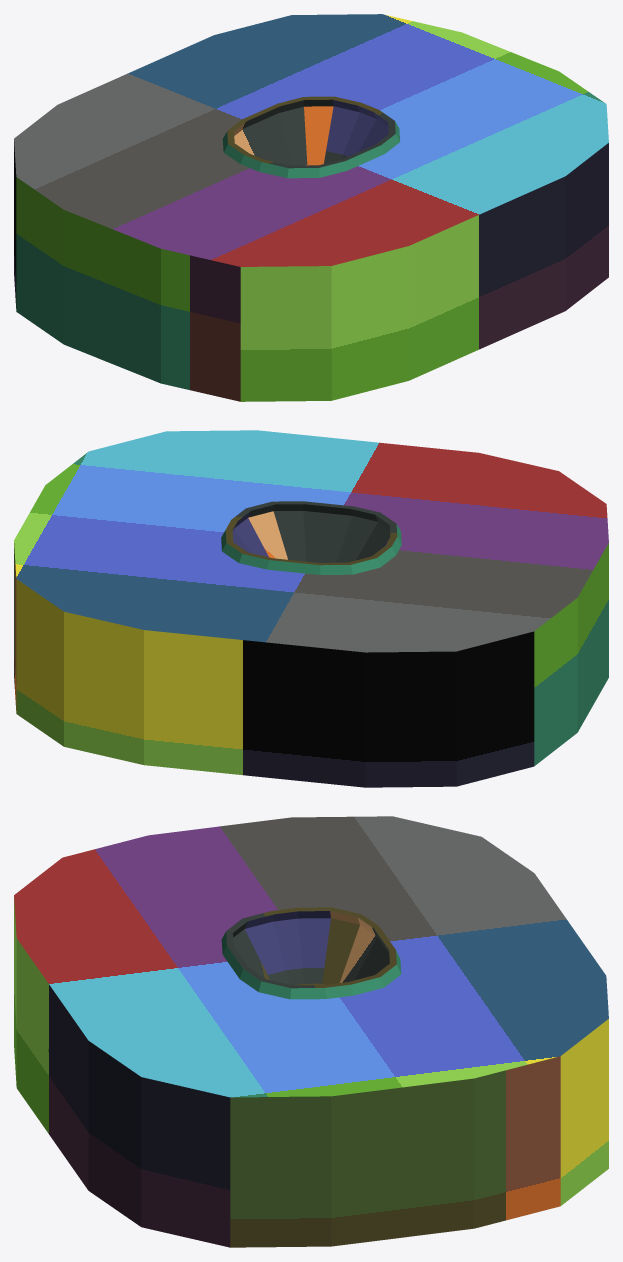
Rendered from Arm_b.glb.
The picture shows the model from 3 angles, top to bottom: view 1: azimuth 30°, elevation 25°; view 2: azimuth 150°, elevation 25°; view 3: azimuth 270°, elevation 25°; orthographic projection. The views are drawn at different scales.
Parts seen in each view (by area): view 1: Cube.001; view 2: Cube.001; view 3: Cube.001.
Boxes of the visible parts, box(x1,y1,x2,y2) form: Cube.001: box(14, 14, 608, 401); Cube.001: box(14, 430, 608, 787); Cube.001: box(14, 816, 608, 1247).
Bounding box in the file's own units: 0.3275 × 0.0865 × 0.2929.
Materials: 1 (1 with a texture image).
